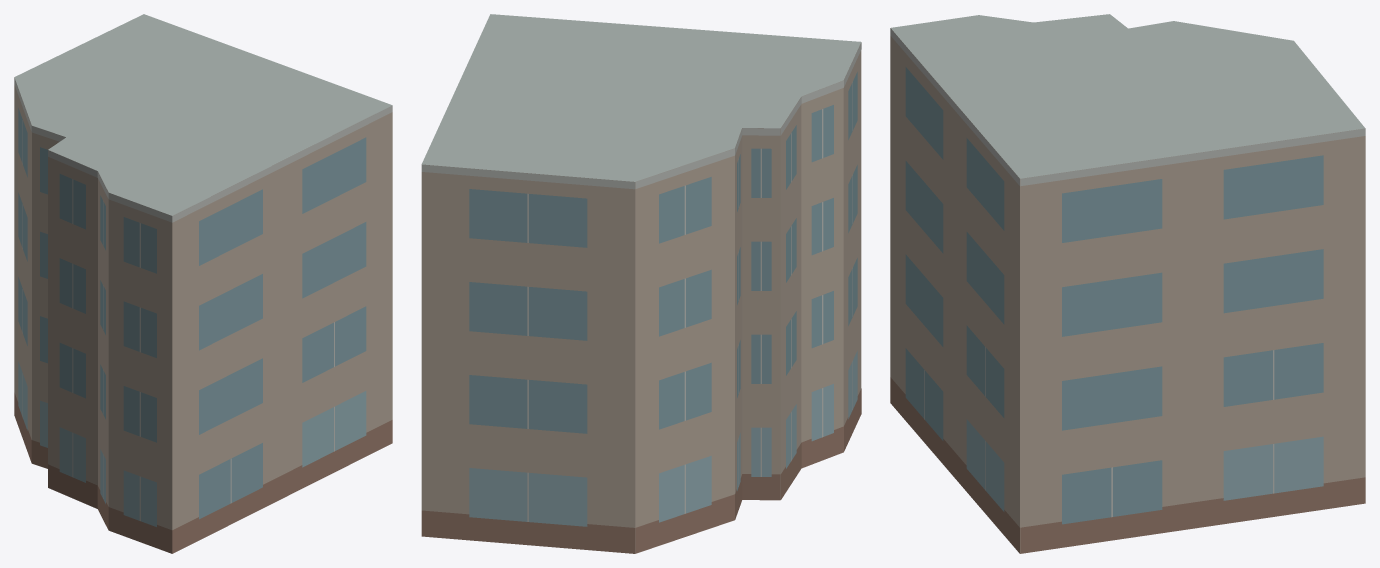
Rendered from survey-upis-32892597.glb.
The picture shows the model from 3 angles, left to right: view 1: azimuth 30°, elevation 25°; view 2: azimuth 150°, elevation 25°; view 3: azimuth 270°, elevation 25°; orthographic projection. The views are drawn at different scales.
Parts seen in each view (by area): view 1: survey-upis-32892597.tmp; view 2: survey-upis-32892597.tmp; view 3: survey-upis-32892597.tmp.
Boxes of the visible parts, x1,y1,x2,y2 form: survey-upis-32892597.tmp: [14, 14, 392, 553]; survey-upis-32892597.tmp: [421, 14, 861, 553]; survey-upis-32892597.tmp: [890, 14, 1365, 553].
Bounding box in the file's own units: 11.5 × 12.2 × 14.02.
